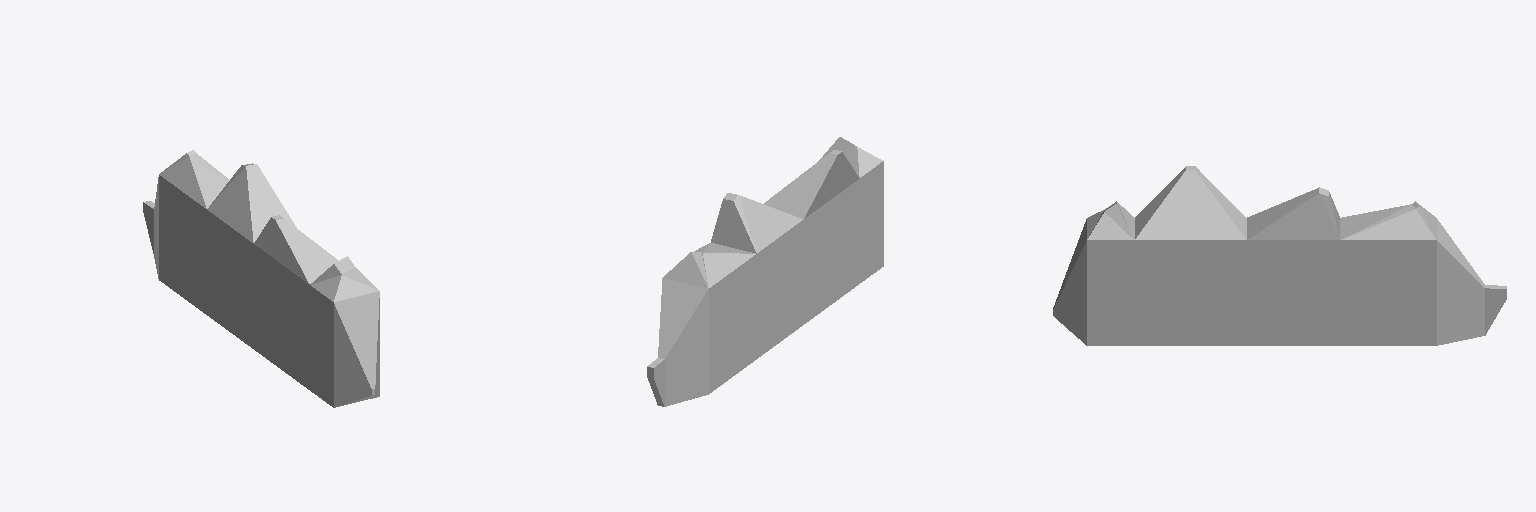
File: PowerUI.obj
3 views of the same model, side by side, from view 1: azimuth 30°, elevation 25°; view 2: azimuth 150°, elevation 25°; view 3: azimuth 270°, elevation 25° (orthographic).
Visible parts, largest first — view 1: Cube_Cube.001; view 2: Cube_Cube.001; view 3: Cube_Cube.001.
Part boxes in pixels (left/top/right/bottom): Cube_Cube.001: left=143, top=150, right=379, bottom=407; Cube_Cube.001: left=647, top=137, right=883, bottom=406; Cube_Cube.001: left=1053, top=166, right=1506, bottom=345.
Size of the model in its own units: 1.08 by 2.9 by 7.78.